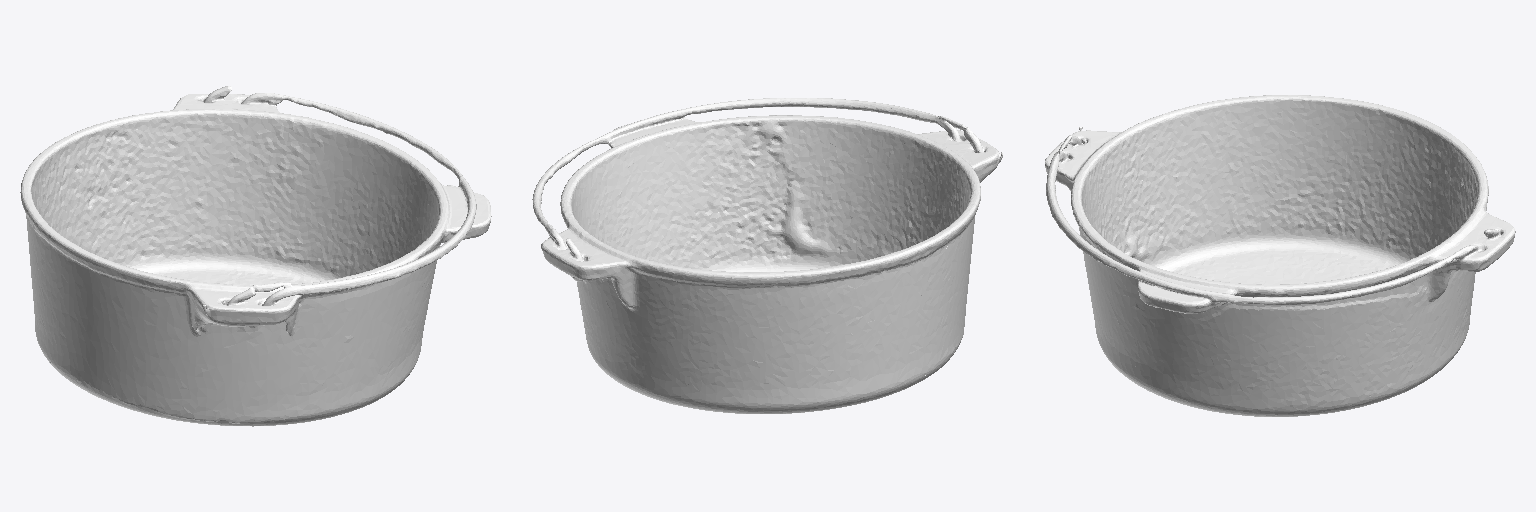
The robot description file, URDF, robot "model.urdf":
<robot name="model.urdf">
    <link name="baseLink">
        <contact>
            <lateral_friction value="0.5"/>
            <rolling_friction value="1"/>
            <spinning_friction value="1"/>
            <contact_cfm value="0.0"/>
            <contact_erp value="1.0"/>
        </contact>
        <inertial>
            <origin rpy="0 0.04 0" xyz="0. 0.0 0.0"/>
            <mass value="1.2"/>
            <inertia ixx="1e-3" ixy="0" ixz="0" iyy="1e-3" iyz="0" izz="1e-3"/>
        </inertial>
        <visual>
            <origin xyz="0.0 0.0 0.0" rpy="0 0 -1.7" />
            <geometry>
                <mesh filename="nontextured.stl" scale="1 1 1"/>
            </geometry>
            <material name="white">
                <color rgba="1 1 1 1"/>
            </material>
        </visual>
        <collision>
            <origin xyz="0.0 0.0 0.0" rpy="0 0 -1.7" />
            <geometry>
                <mesh filename="nontextured.stl" scale="1 1 1"/>
            </geometry>
        </collision>
    </link>
</robot>

--- What the picture shows (computed from the rendered views, not written in the file) ---
The picture shows the robot from 3 angles, left to right: view 1: azimuth 30°, elevation 25°; view 2: azimuth 150°, elevation 25°; view 3: azimuth 270°, elevation 25°; orthographic projection.
Robot: model.urdf — 1 links, 0 joints (none); root link baseLink; default pose: all joints at 0.
Visible links, largest first — view 1: baseLink; view 2: baseLink; view 3: baseLink.
Boxes of the visible links, left/top/right/bottom form: baseLink: left=20, top=86, right=491, bottom=426; baseLink: left=532, top=98, right=1002, bottom=413; baseLink: left=1045, top=95, right=1515, bottom=416.
Size in the robot's own frame: 0.2713 by 0.2876 by 0.1149 metres.
1 mesh visuals loaded from 1 distinct referenced files (1 binary STL).